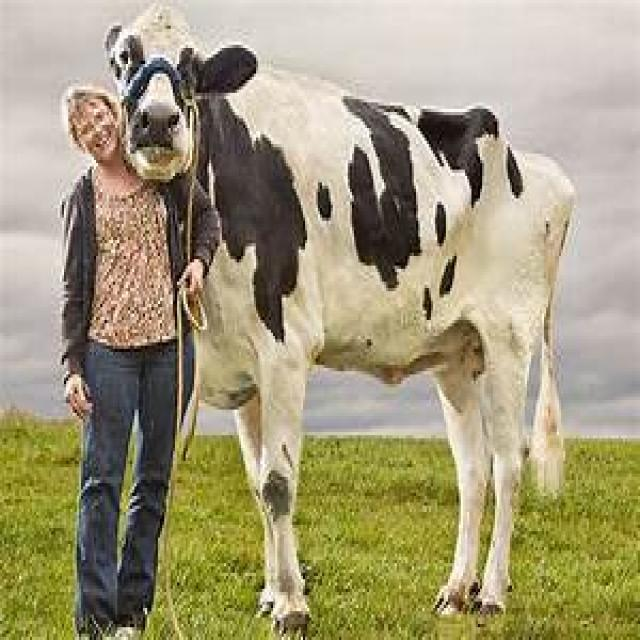animal: (102, 0, 576, 637)
